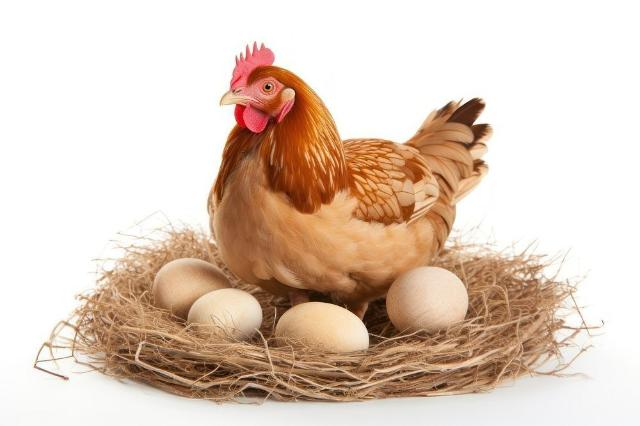Chicken: (207, 43, 493, 326)
